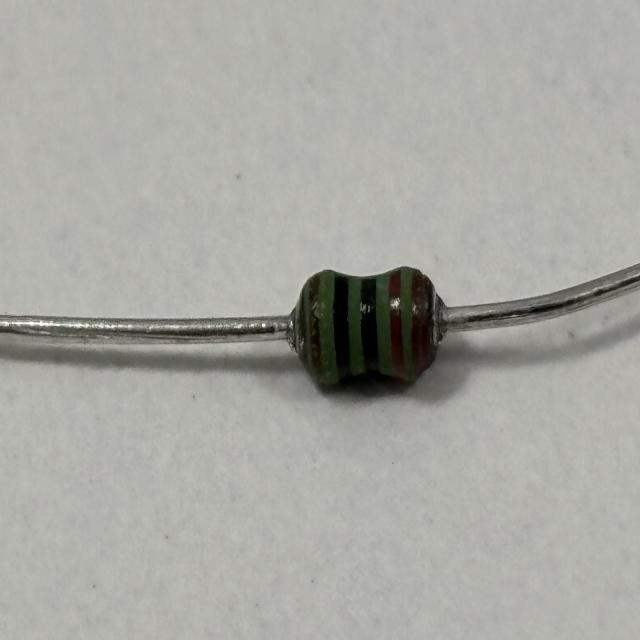resistor: (300, 262, 435, 394)
